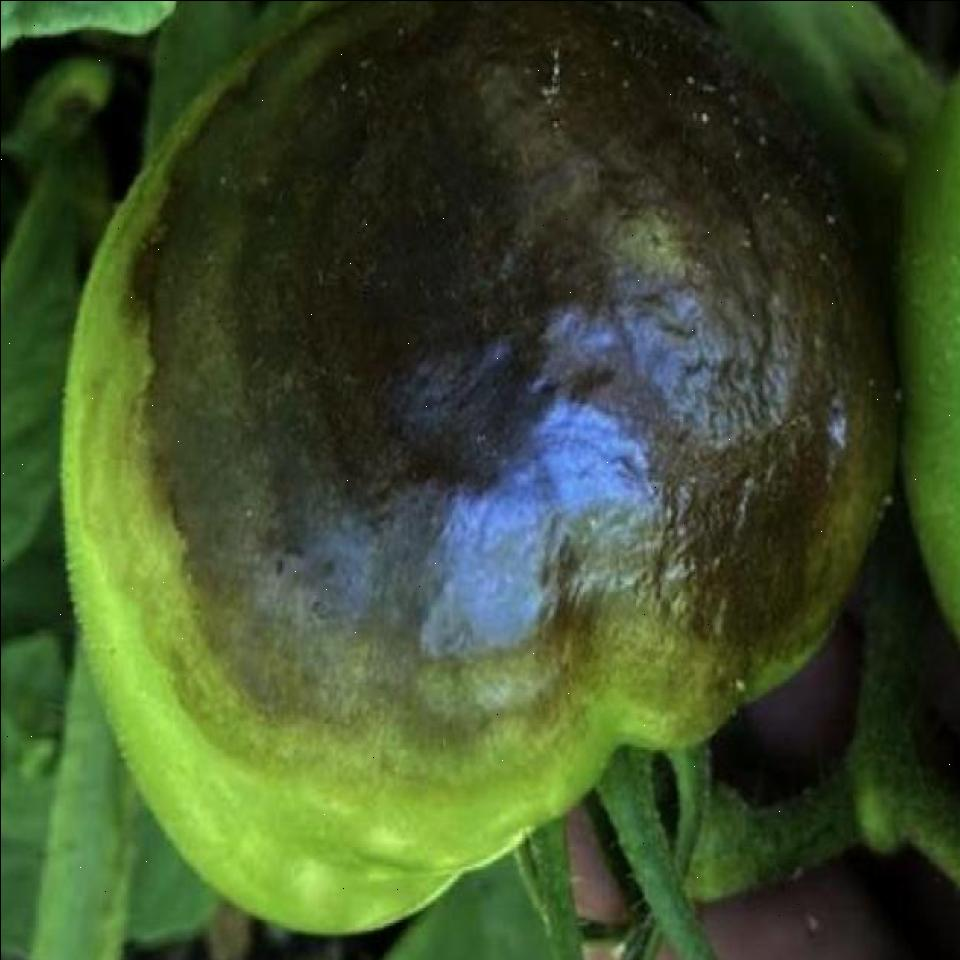Blossom_end_rot: (147, 0, 901, 790)
